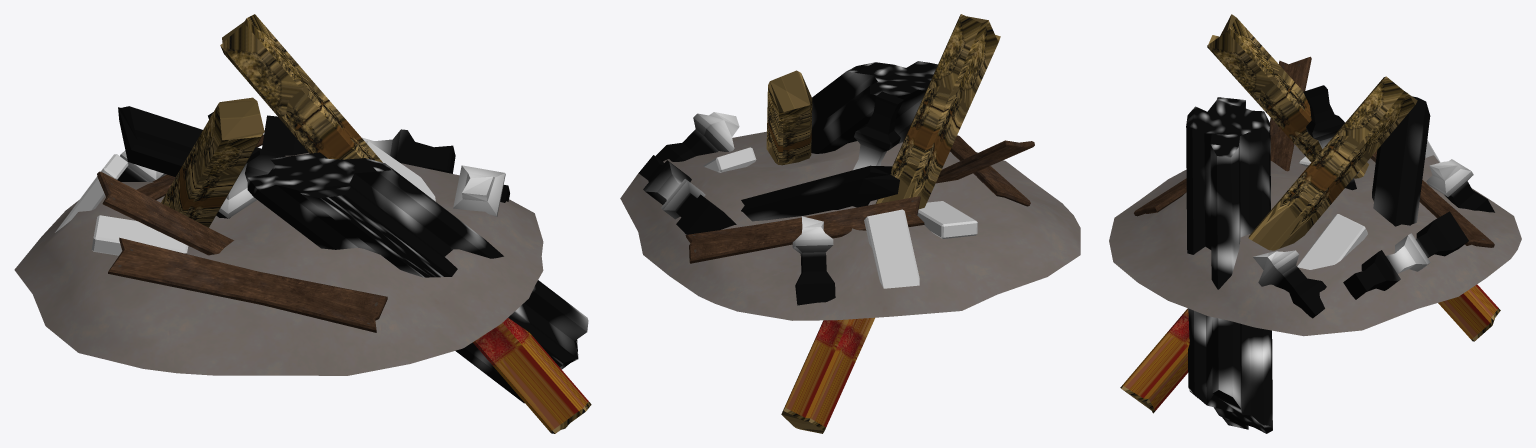
File: Rubble_A.fbx
The picture shows the model from 3 angles, left to right: view 1: azimuth 30°, elevation 25°; view 2: azimuth 150°, elevation 25°; view 3: azimuth 270°, elevation 25°; orthographic projection. The views are drawn at different scales.
Parts seen in each view (by area): view 1: Rubble_A; view 2: Rubble_A; view 3: Rubble_A.
Part boxes in pixels (x1,y1,x2,y2): Rubble_A: [14, 14, 591, 433]; Rubble_A: [620, 14, 1080, 433]; Rubble_A: [1109, 14, 1521, 433].
Bounding box in the file's own units: 4.46 × 3.28 × 4.07.
